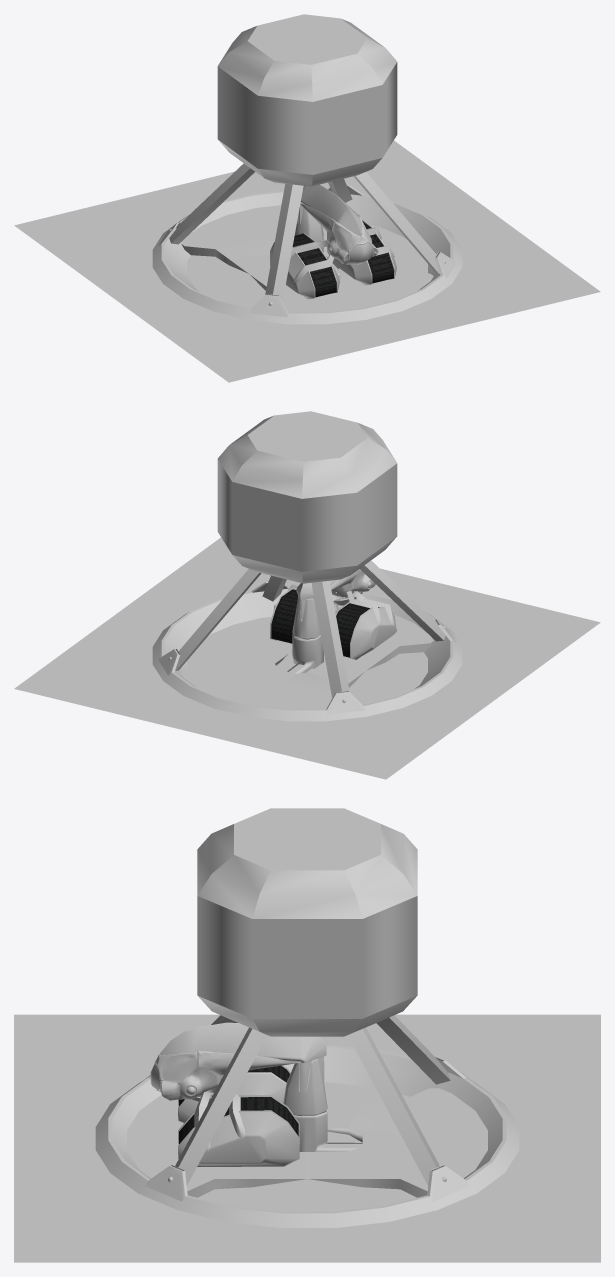
The model's file is fbscup00.fbx.
The picture shows the model from 3 angles, top to bottom: view 1: azimuth 30°, elevation 25°; view 2: azimuth 150°, elevation 25°; view 3: azimuth 270°, elevation 25°; orthographic projection. The views are drawn at different scales.
Parts seen in each view (by area): view 1: terrain, UPG_Silo, upgrd_obj47, CircularBase, Bridge_Back, biometal1, Bridge_Front, tread_r, skel_FLUID_Top1, main_body, CircularBumps1, tractor_r (+3 smaller); view 2: terrain, UPG_Silo, upgrd_obj47, CircularBase, Bridge_Back, biometal1, Bridge_Front, tread_r, DEPLOY_FLUID_SACK2_2, CircularBumps1, tractor_l, tractor_r (+1 smaller); view 3: terrain, UPG_Silo, upgrd_obj47, CircularBase, Bridge_Back, biometal1, Bridge_Front, tread_l, skel_FLUID_Top1, main_body, DEPLOY_FLUID_SACK2_2, CircularBumps1 (+2 smaller).
Boxes of the visible parts, x1,y1,x2,y2 form: terrain: [14, 140, 600, 382]; UPG_Silo: [169, 14, 439, 300]; upgrd_obj47: [217, 62, 397, 174]; CircularBase: [152, 190, 462, 324]; Bridge_Back: [181, 205, 328, 273]; biometal1: [187, 225, 427, 307]; Bridge_Front: [249, 254, 433, 312]; tread_r: [270, 232, 339, 299]; skel_FLUID_Top1: [300, 184, 362, 236]; main_body: [300, 203, 378, 263]; CircularBumps1: [158, 185, 456, 317]; tractor_r: [292, 233, 336, 297]; terrain: [14, 537, 600, 779]; UPG_Silo: [175, 411, 445, 697]; upgrd_obj47: [217, 459, 397, 571]; CircularBase: [152, 587, 462, 721]; Bridge_Back: [181, 642, 365, 709]; biometal1: [187, 616, 427, 704]; Bridge_Front: [250, 603, 433, 670]; tread_r: [335, 590, 396, 659]; DEPLOY_FLUID_SACK2_2: [287, 596, 323, 673]; CircularBumps1: [158, 582, 456, 714]; tractor_l: [271, 589, 297, 643]; tractor_r: [336, 603, 379, 657]; terrain: [14, 1014, 600, 1262]; UPG_Silo: [175, 808, 450, 1185]; upgrd_obj47: [197, 896, 417, 1018]; CircularBase: [95, 1045, 519, 1227]; Bridge_Back: [307, 1088, 487, 1197]; biometal1: [198, 1082, 416, 1211]; Bridge_Front: [127, 1095, 307, 1197]; tread_l: [178, 1087, 299, 1166]; skel_FLUID_Top1: [159, 1022, 326, 1062]; main_body: [154, 1051, 297, 1100]; DEPLOY_FLUID_SACK2_2: [283, 1059, 362, 1151]; CircularBumps1: [144, 1055, 470, 1201].
Size of the model in its own units: 32 by 19.73 by 32.
